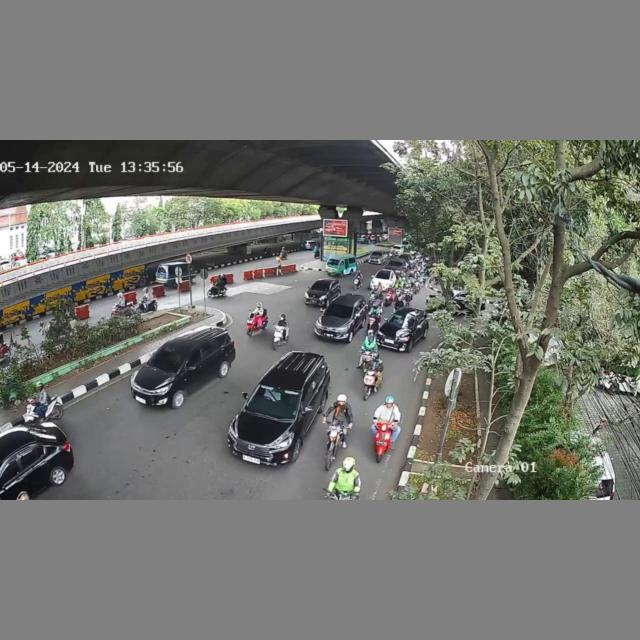windshield: (245, 384, 302, 420), (147, 344, 189, 372), (321, 301, 353, 320), (386, 311, 419, 328), (309, 281, 330, 293)
